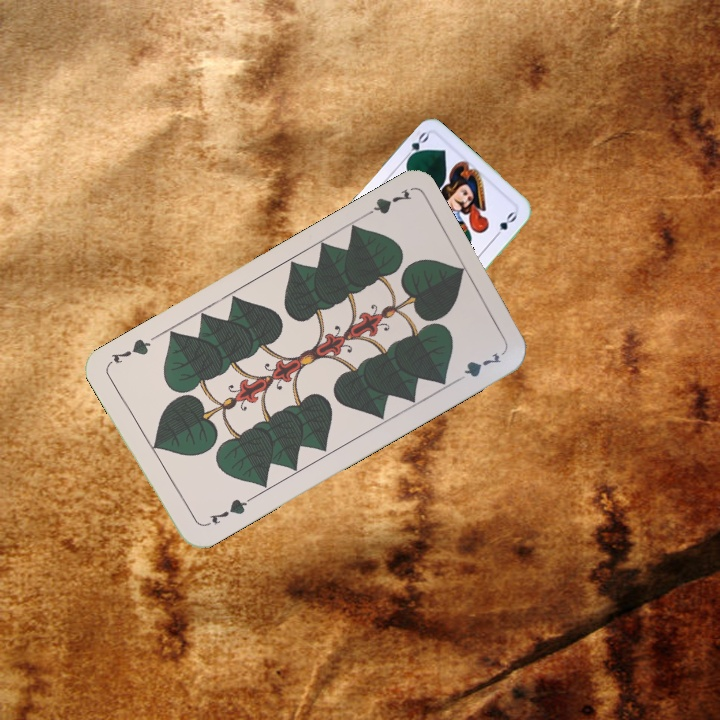G7: (357, 184, 414, 222), (200, 494, 254, 530)
GO: (399, 128, 431, 165)
